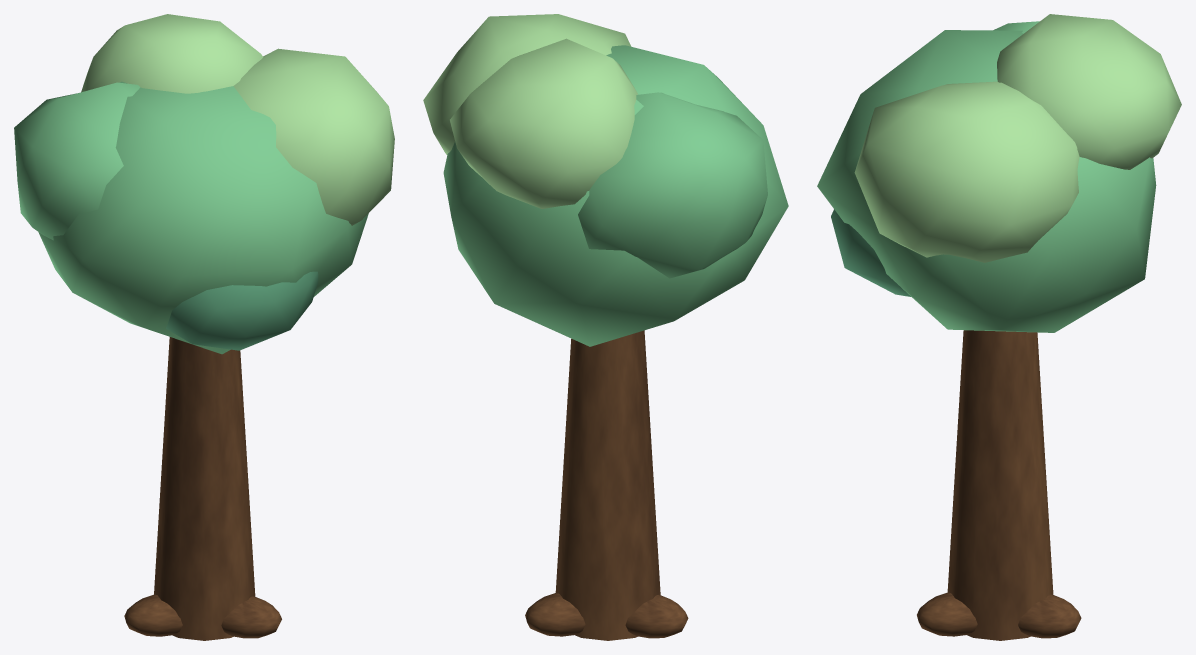
File: ENV_Forest_Tree_A.fbx
3 views of the same model, side by side, from view 1: azimuth 30°, elevation 25°; view 2: azimuth 150°, elevation 25°; view 3: azimuth 270°, elevation 25° (orthographic). The views are drawn at different scales.
Parts seen in each view (by area): view 1: ENV_Forest_Tree_A; view 2: ENV_Forest_Tree_A; view 3: ENV_Forest_Tree_A.
Part boxes in pixels (x1,y1,x2,y2): ENV_Forest_Tree_A: (14,14,394,640); ENV_Forest_Tree_A: (423,14,788,640); ENV_Forest_Tree_A: (817,14,1181,640).
Size of the model in its own units: 1.47 by 2.41 by 1.34.
Materials: 4 (1 with a texture image).
